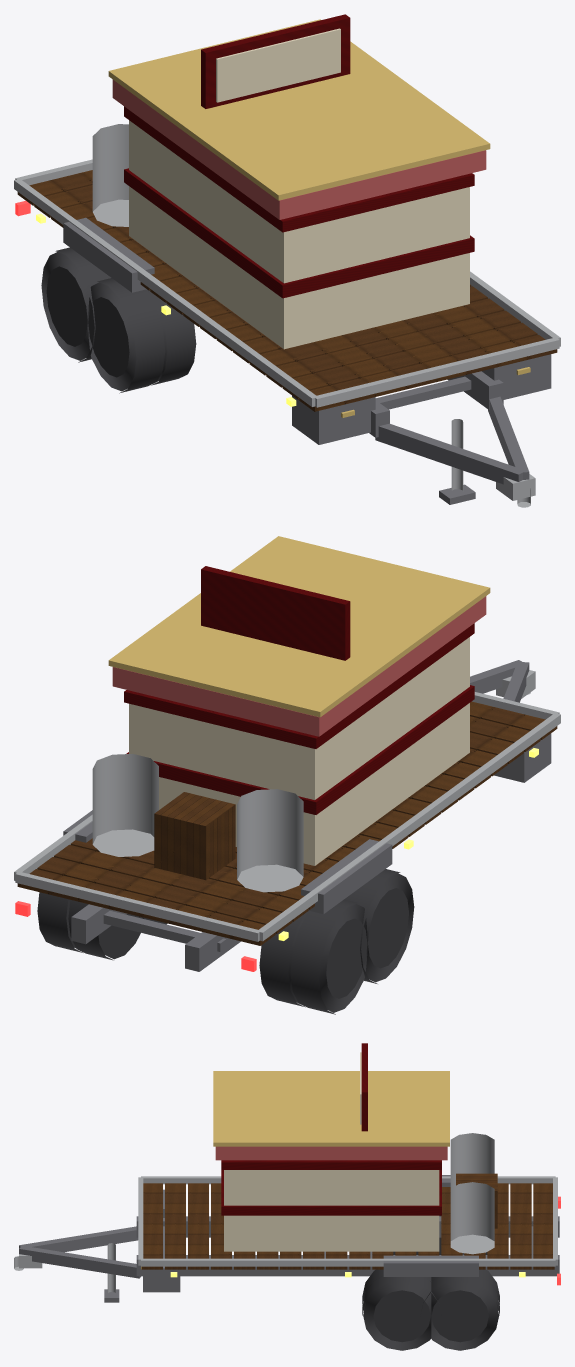
Rendered from trailer_food.glb.
The picture shows the model from 3 angles, top to bottom: view 1: azimuth 30°, elevation 25°; view 2: azimuth 150°, elevation 25°; view 3: azimuth 270°, elevation 25°; orthographic projection. The views are drawn at different scales.
Parts seen in each view (by area): view 1: body, wheel_L2_1, wheel_L2_0, wheel_L_1; view 2: body, wheel_L2_0, wheel_L2_1, wheel_L_0, wheel_R_0, wheel_R2_0; view 3: body, wheel_R2_1, wheel_R2_0.
Boxes of the visible parts, x1,y1,x2,y2 form: body: (14,14,560,507); wheel_L2_1: (88,278,165,393); wheel_L2_0: (41,247,111,362); wheel_L_1: (147,289,196,385); body: (14,536,560,971); wheel_L2_0: (290,899,367,1014); wheel_L2_1: (344,869,414,983); wheel_L_0: (259,911,308,1007); wheel_R_0: (68,900,146,960); wheel_R2_0: (37,892,82,952); body: (14,1043,559,1302); wheel_R2_1: (362,1275,441,1350); wheel_R2_0: (423,1276,499,1350).
Bounding box in the file's own units: 2.73 × 3.16 × 6.6.
Materials: 10 (2 with a texture image).
